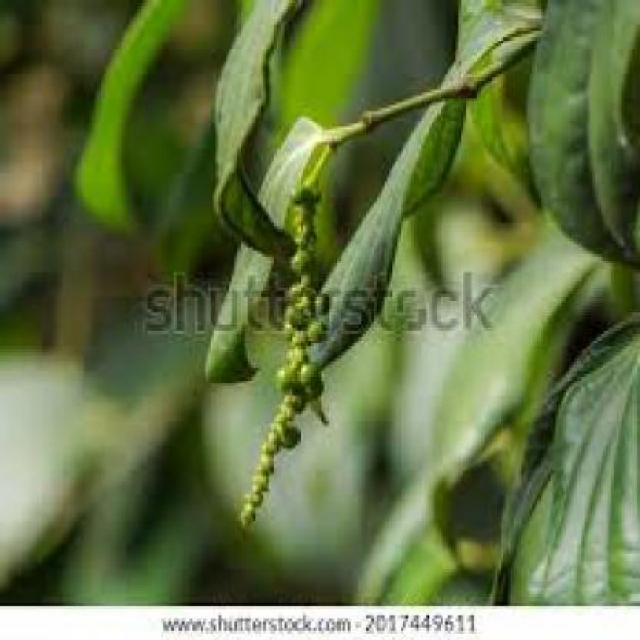UNRIPE: (238, 173, 324, 519)
